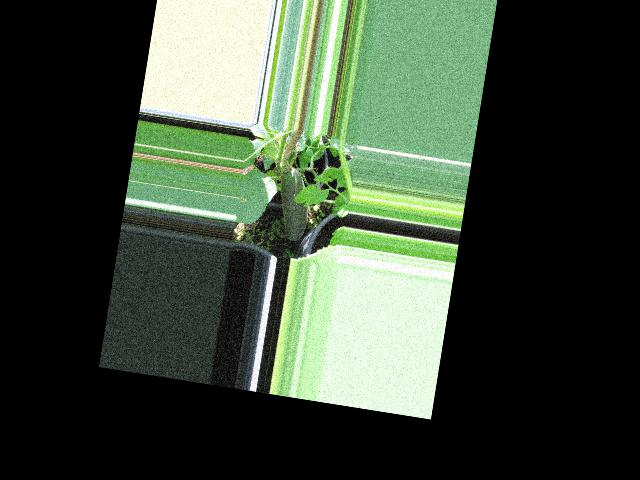cucumber: (271, 165, 314, 242)
